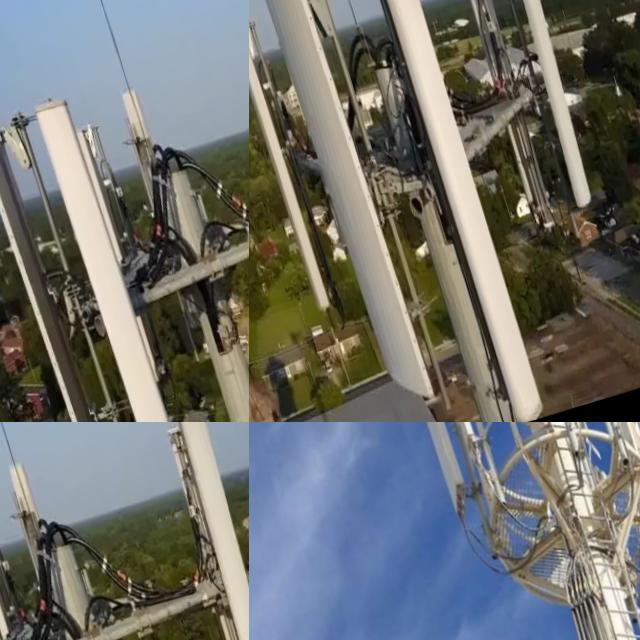GSM Antenna: (357, 0, 548, 422), (249, 0, 442, 413), (23, 82, 210, 422), (0, 54, 123, 422), (69, 110, 169, 389), (475, 0, 600, 210), (249, 11, 336, 310), (449, 0, 562, 229), (142, 422, 249, 640), (0, 455, 96, 640), (367, 422, 470, 508), (426, 422, 484, 454)
